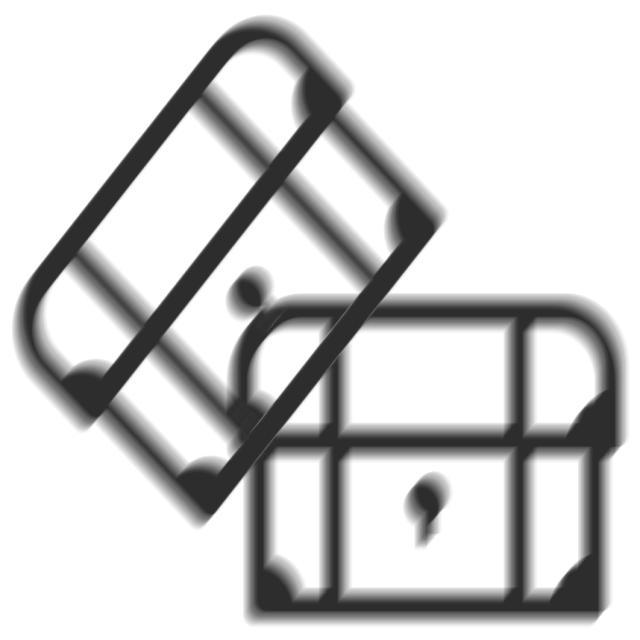treasure_box: (5, 4, 457, 549), (218, 279, 636, 634)
